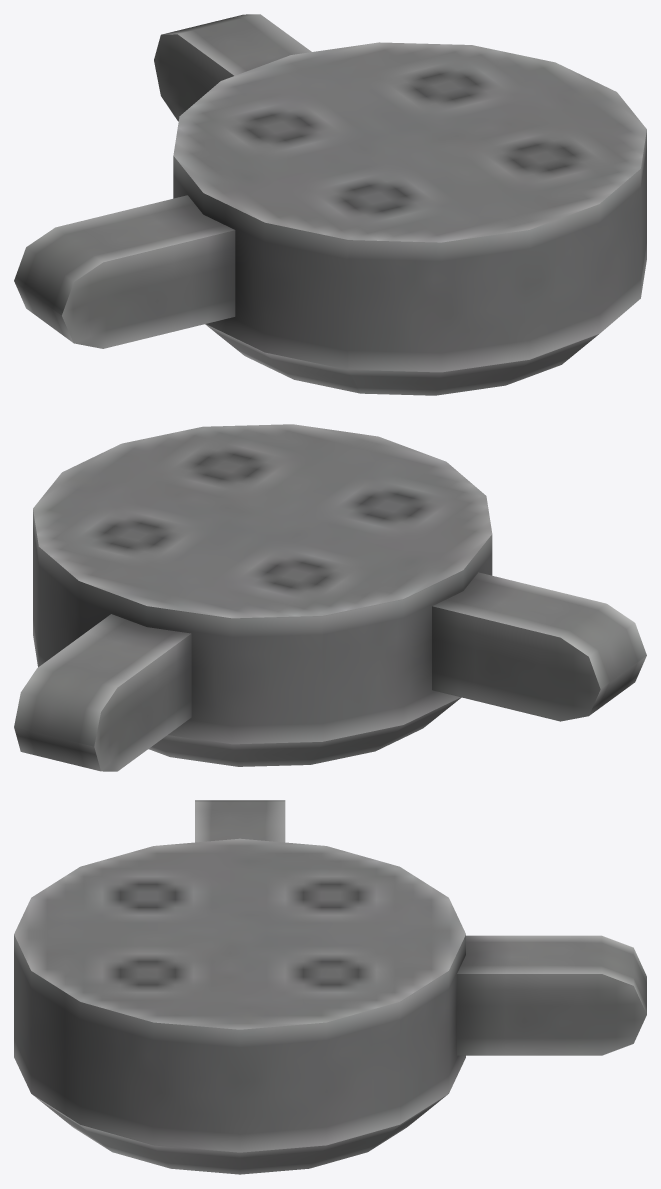
Rendered from 4mv_engine_s0_1_srfbase.obj.
3 views of the same model, one above another, from view 1: azimuth 30°, elevation 25°; view 2: azimuth 150°, elevation 25°; view 3: azimuth 270°, elevation 25° (orthographic). The views are drawn at different scales.
Parts seen in each view (by area): view 1: mesh1; view 2: mesh1; view 3: mesh1.
Part boxes in pixels (x1,y1,x2,y2): mesh1: [14, 14, 646, 395]; mesh1: [14, 424, 646, 771]; mesh1: [14, 800, 646, 1174].
Size of the model in its own units: 0.175 by 0.05 by 0.175.
Materials: 1 (1 with a texture image).
